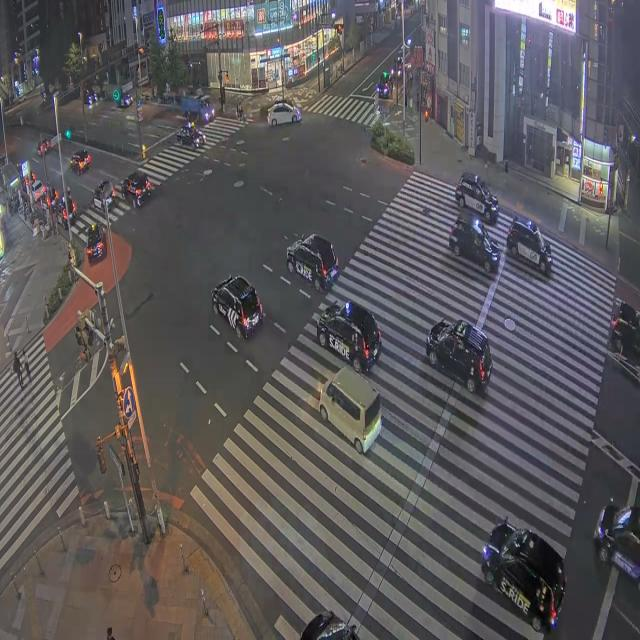car: (481, 520, 566, 632), (426, 320, 491, 393), (317, 302, 381, 373), (594, 502, 639, 588), (212, 276, 263, 338), (449, 213, 500, 272), (287, 234, 338, 291), (506, 215, 552, 275), (455, 172, 498, 223), (611, 302, 639, 359), (301, 612, 358, 639), (122, 171, 152, 207), (267, 103, 301, 126), (86, 224, 106, 262), (93, 181, 116, 210), (177, 126, 205, 148), (55, 199, 76, 228), (70, 151, 90, 175), (377, 72, 392, 98), (46, 183, 60, 207), (391, 51, 403, 77), (32, 180, 46, 201), (37, 139, 50, 156), (84, 89, 97, 106), (118, 94, 132, 108), (272, 98, 294, 106)
van: (319, 368, 381, 453)
